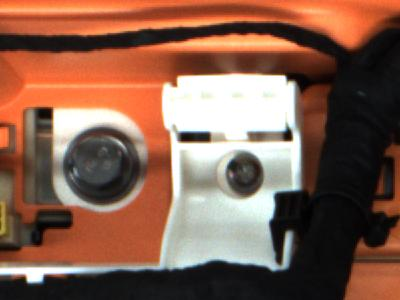nut_b: (60, 123, 142, 205)
